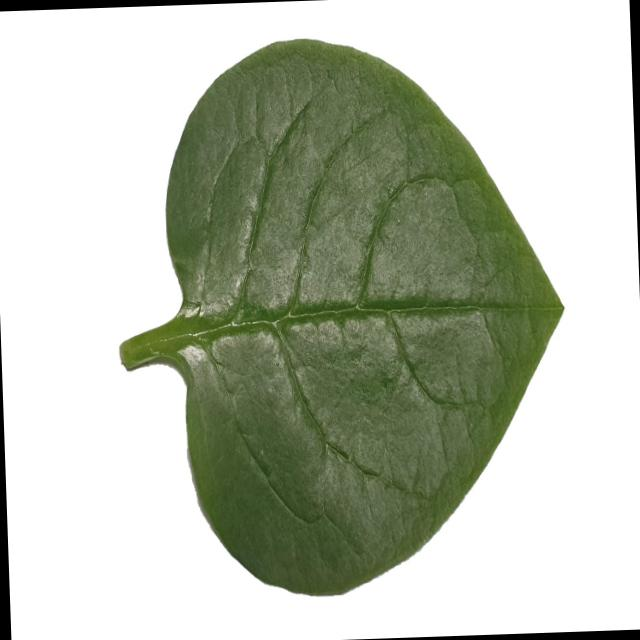Medicinal-Basale: (106, 26, 568, 602)
